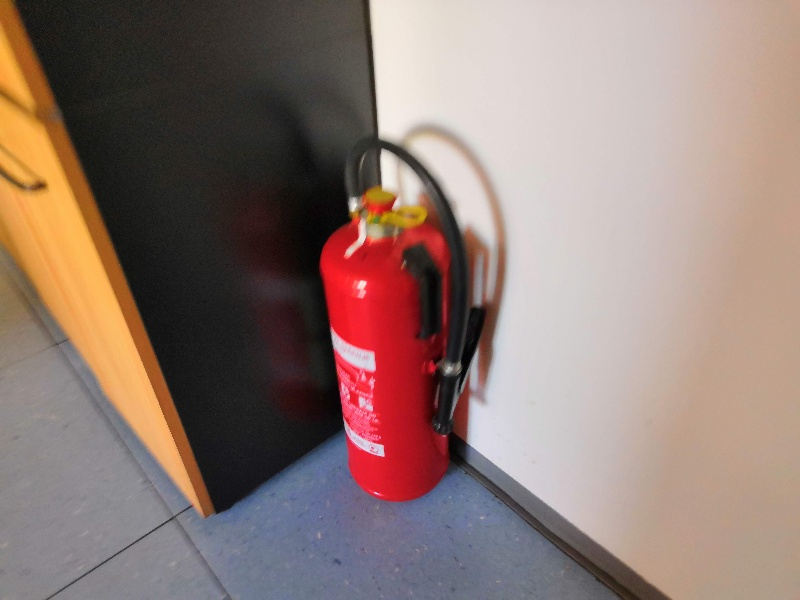vataparat: (319, 135, 485, 500)
